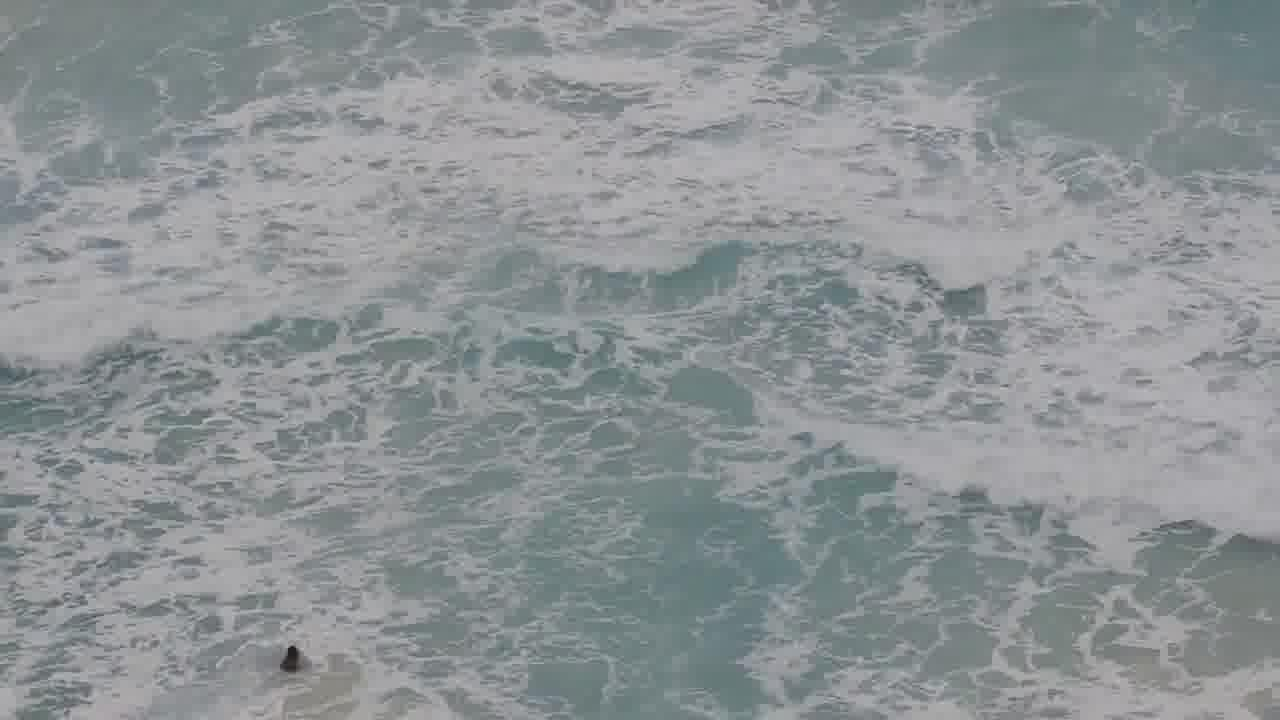human: (272, 634, 318, 679)
